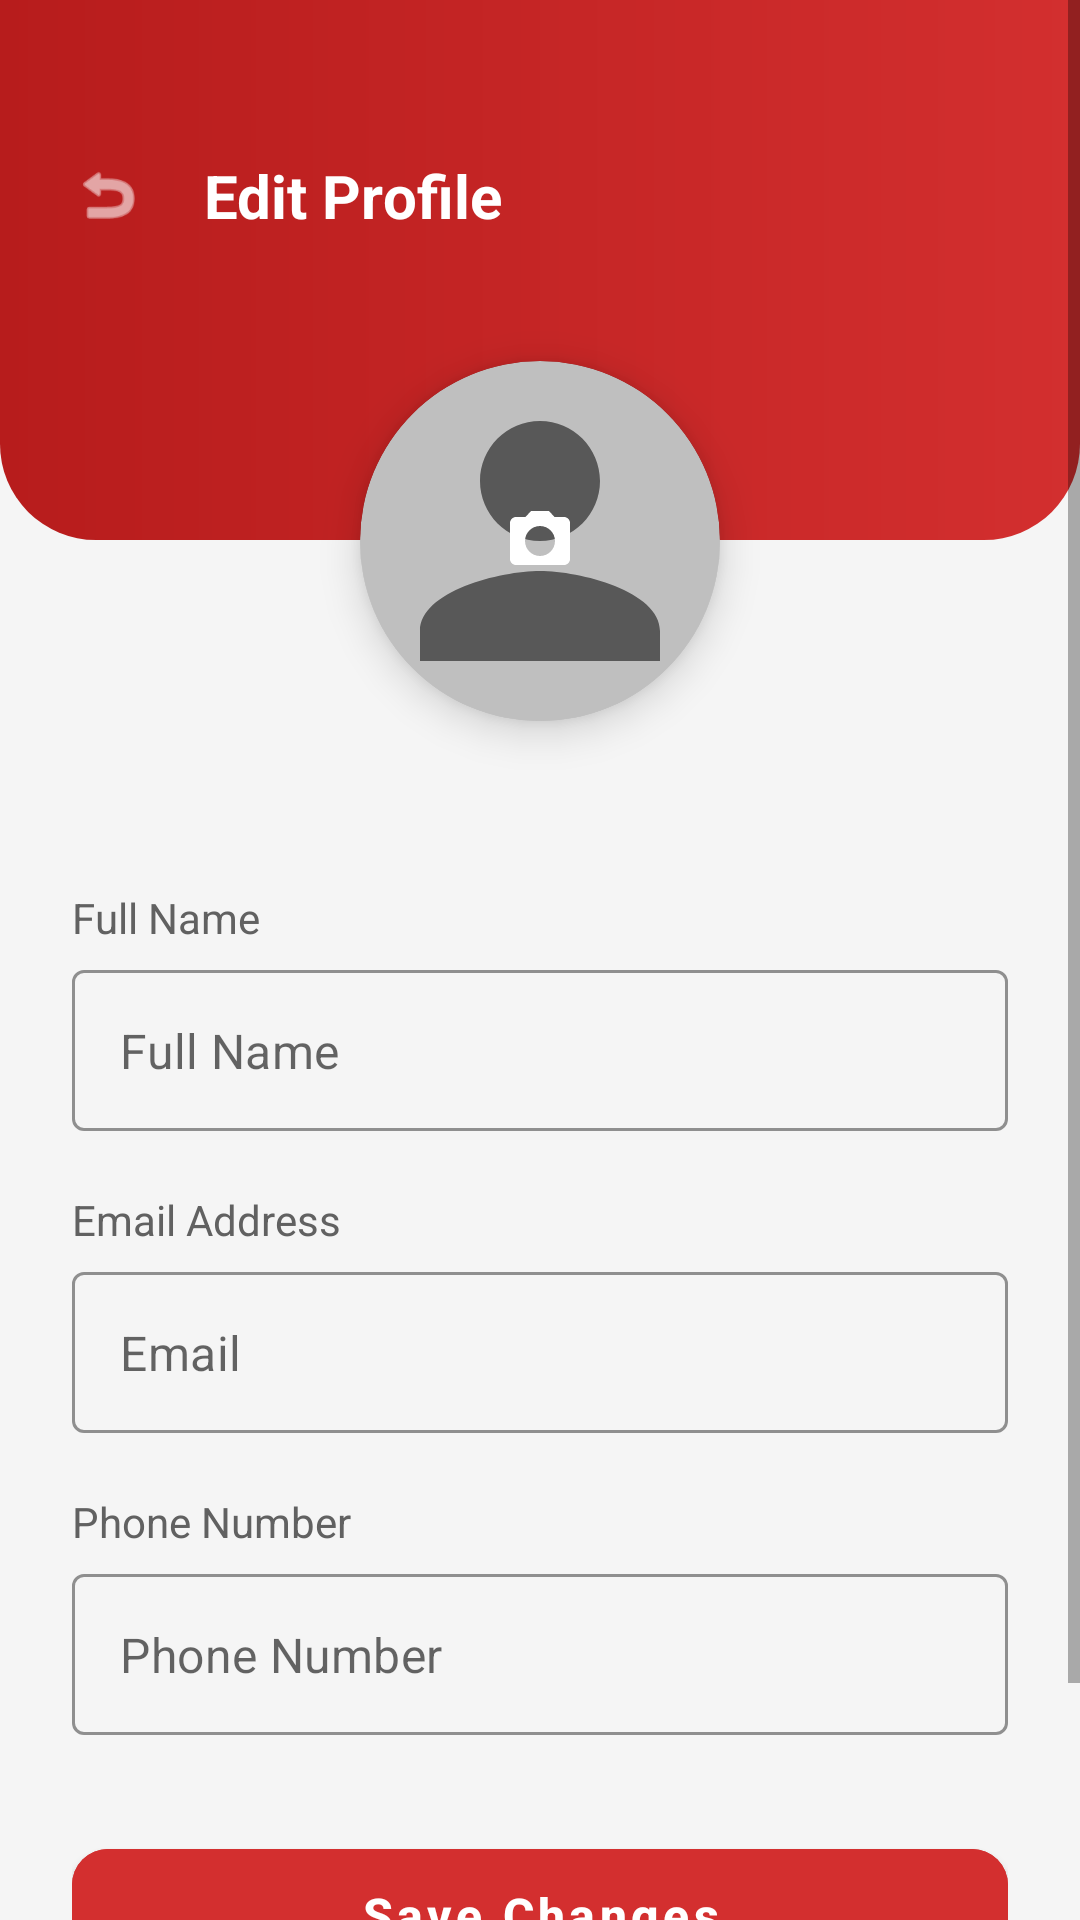

Point at icon controls on the screen. Image size 1080×1920, points as (x=x, y=y).
revert: (x=109, y=195)
